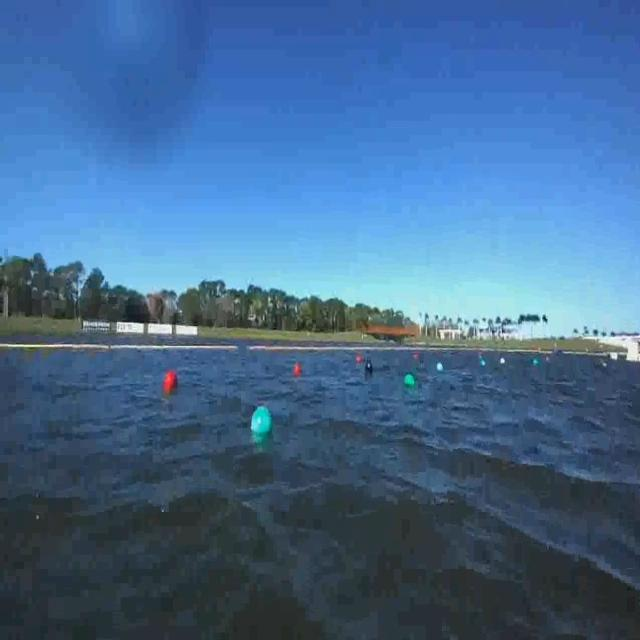black-buoy: (364, 360, 372, 374)
green-buoy: (254, 408, 274, 438), (406, 373, 416, 386)
red-buoy: (163, 369, 179, 393), (292, 362, 300, 377), (357, 354, 363, 364)
